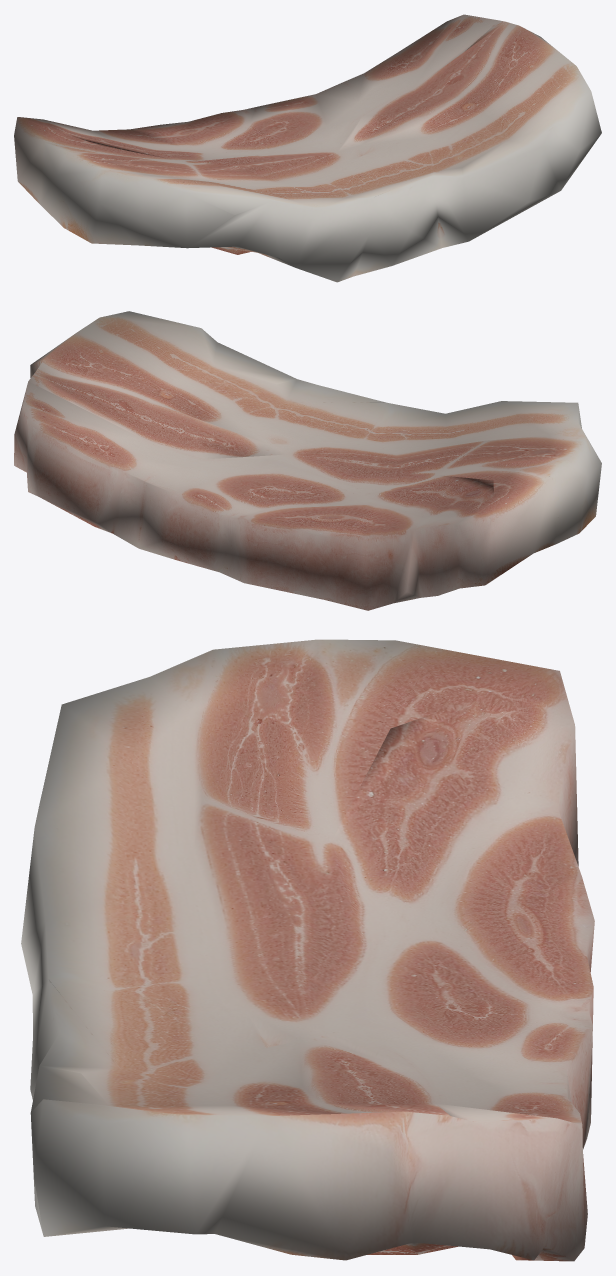
The model's file is NIKU.obj.
The picture shows the model from 3 angles, top to bottom: view 1: azimuth 30°, elevation 25°; view 2: azimuth 150°, elevation 25°; view 3: azimuth 270°, elevation 25°; orthographic projection. The views are drawn at different scales.
Visible parts, largest first — view 1: tripo_node_ab942b7c; view 2: tripo_node_ab942b7c; view 3: tripo_node_ab942b7c.
Boxes of the visible parts, bbox=[...] form: tripo_node_ab942b7c: bbox=[14, 14, 601, 282]; tripo_node_ab942b7c: bbox=[14, 311, 601, 610]; tripo_node_ab942b7c: bbox=[21, 639, 594, 1261].
Bounding box in the file's own units: 1 × 0.2496 × 0.4871.
1 material, 1 textured.
